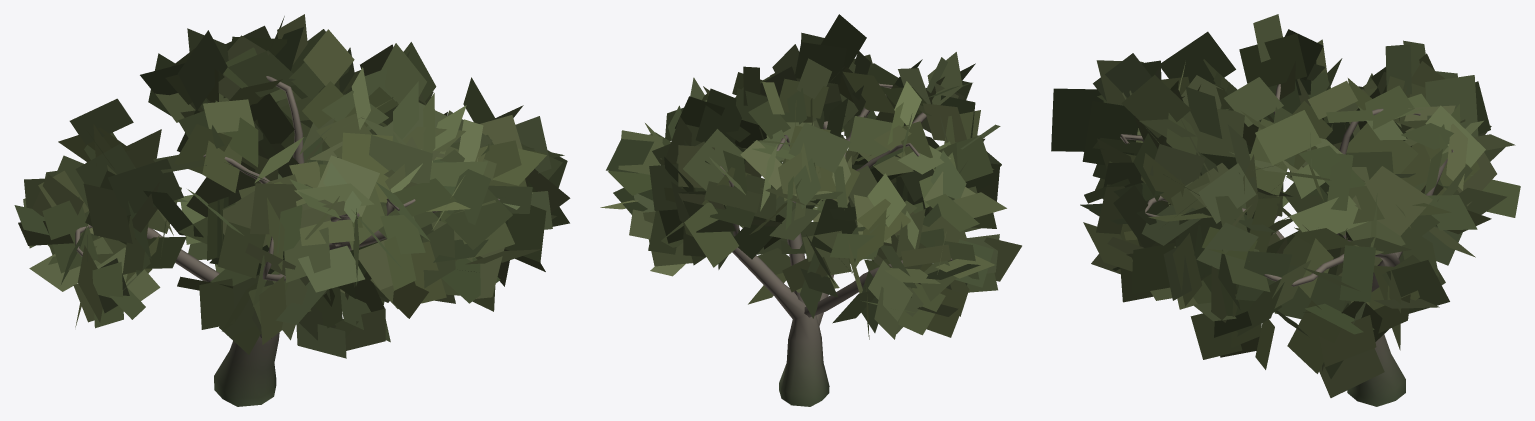
The model's file is broadleaf.olive.green.glb.
The picture shows the model from 3 angles, left to right: view 1: azimuth 30°, elevation 25°; view 2: azimuth 150°, elevation 25°; view 3: azimuth 270°, elevation 25°; orthographic projection. The views are drawn at different scales.
Visible parts, largest first — view 1: broadleaf_olive_green; view 2: broadleaf_olive_green; view 3: broadleaf_olive_green.
Part boxes in pixels (box(x1,y1,x2,y2)): broadleaf_olive_green: box(14, 14, 570, 406); broadleaf_olive_green: box(600, 14, 1021, 406); broadleaf_olive_green: box(1051, 14, 1520, 406).
Size of what is drawn, in the model's own units: 7.41 by 5.28 by 6.39.
